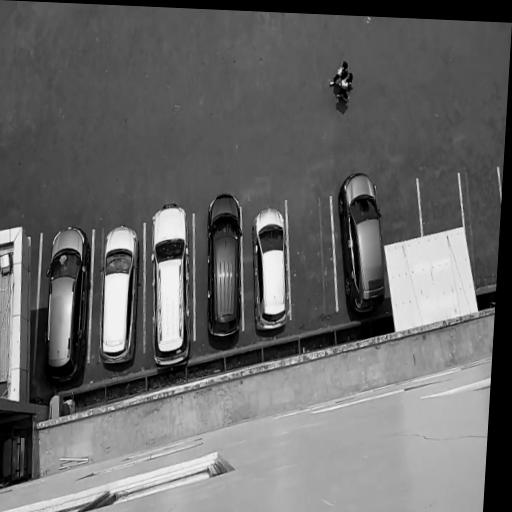Car: (43, 223, 94, 385), (338, 170, 390, 324), (149, 197, 193, 375), (98, 219, 142, 373), (205, 187, 245, 346), (252, 205, 289, 338)
Space Available: (287, 198, 336, 318), (460, 168, 501, 286), (377, 181, 423, 243), (418, 175, 463, 238)
